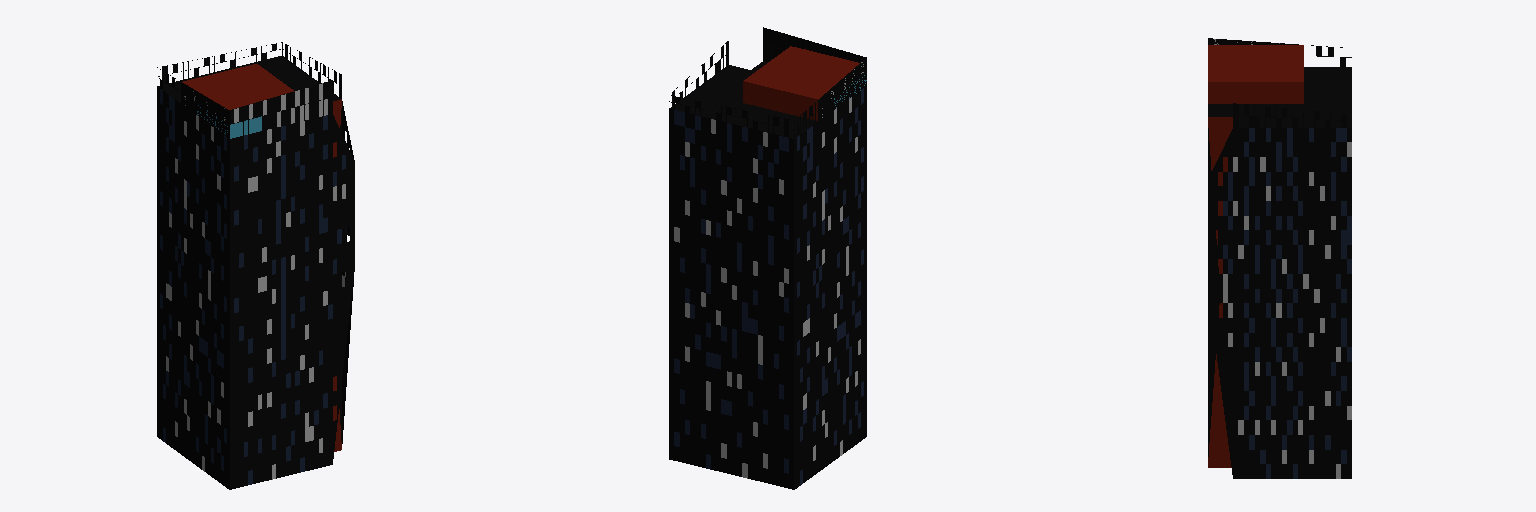
The model's file is torni.obj.
3 views of the same model, side by side, from view 1: azimuth 30°, elevation 25°; view 2: azimuth 150°, elevation 25°; view 3: azimuth 270°, elevation 25° (orthographic).
Parts seen in each view (by area): view 1: Cube.000_Cube.030; view 2: Cube.000_Cube.030; view 3: Cube.000_Cube.030.
Boxes of the visible parts, <box> form: Cube.000_Cube.030: <box>157,42,354,489</box>; Cube.000_Cube.030: <box>669,27,866,489</box>; Cube.000_Cube.030: <box>1208,38,1351,478</box>.
Bounding box in the file's own units: 2 × 5.87 × 2.